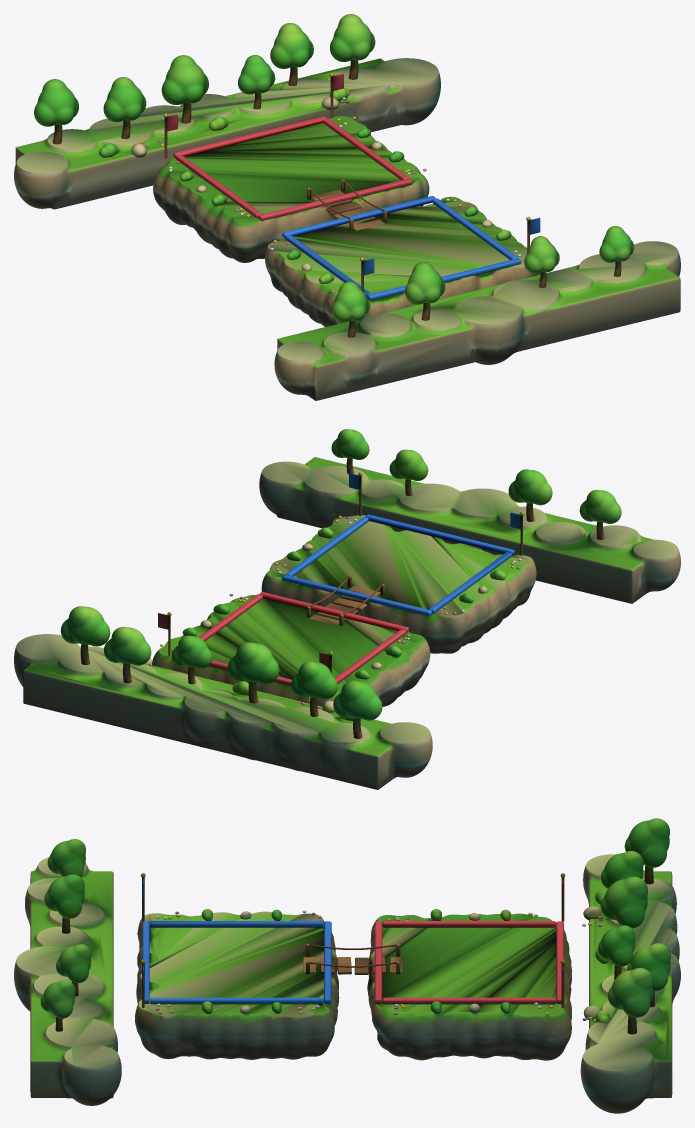
File: pradera.glb
3 views of the same model, one above another, from view 1: azimuth 30°, elevation 25°; view 2: azimuth 150°, elevation 25°; view 3: azimuth 270°, elevation 25° (orthographic). The views are drawn at different scales.
Parts seen in each view (by area): view 1: arena; view 2: arena; view 3: arena.
Part boxes in pixels (box(x1,y1,x2,y2)): arena: box(14, 14, 680, 400); arena: box(14, 429, 680, 789); arena: box(14, 818, 680, 1113).
Bounding box in the file's own units: 14.94 × 3.88 × 19.23.
